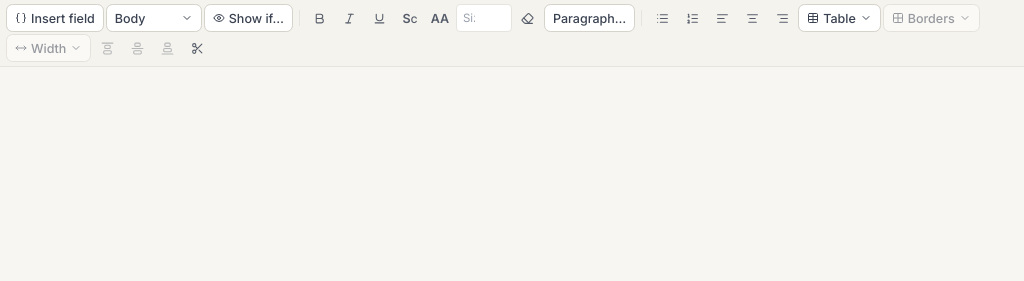
it: Style menu › picking Caption sets the style
Click the button with aria-label "Style:".
click(154, 18)  # box [106,4,202,32]
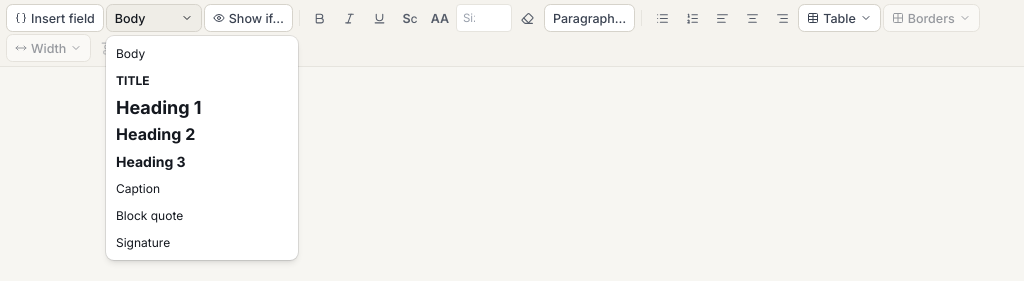
Click the menu item "Caption".
click(138, 188)  # box [116,181,160,196]
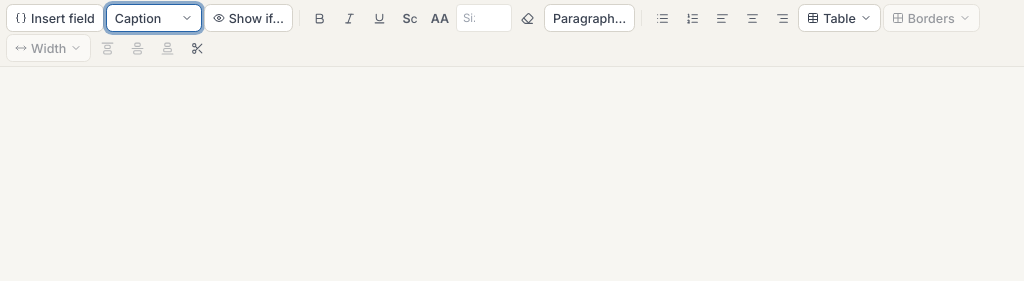
Expected: the button with aria-label "Style: Caption" is shown, [106,4,202,32]
